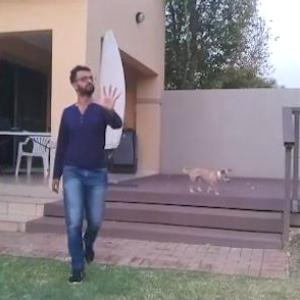follow_hand: (95, 81, 124, 114)
